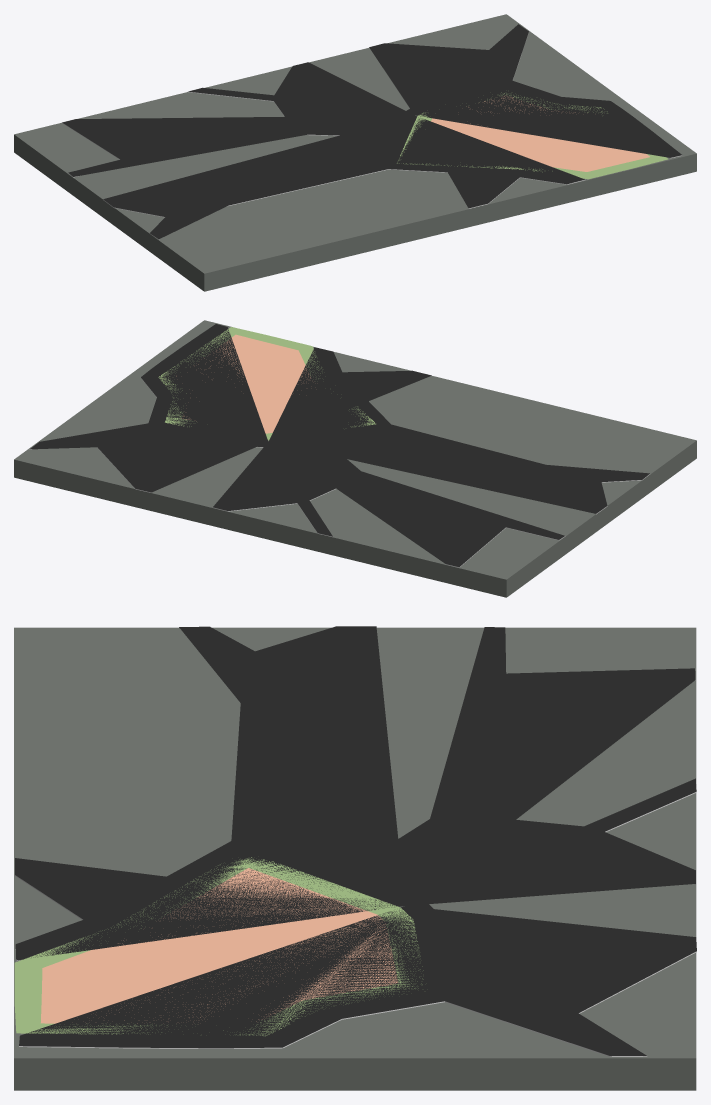
The model's file is GroundFloor.fbx.
3 views of the same model, one above another, from view 1: azimuth 30°, elevation 25°; view 2: azimuth 150°, elevation 25°; view 3: azimuth 270°, elevation 25° (orthographic). The views are drawn at different scales.
Parts seen in each view (by area): view 1: Cube.055; view 2: Cube.055; view 3: Cube.055.
Boxes of the visible parts, x1,y1,x2,y2 form: Cube.055: [14, 14, 696, 291]; Cube.055: [14, 320, 696, 597]; Cube.055: [14, 626, 696, 1090].
Size of the model in its own units: 3356 by 121 by 2246.
